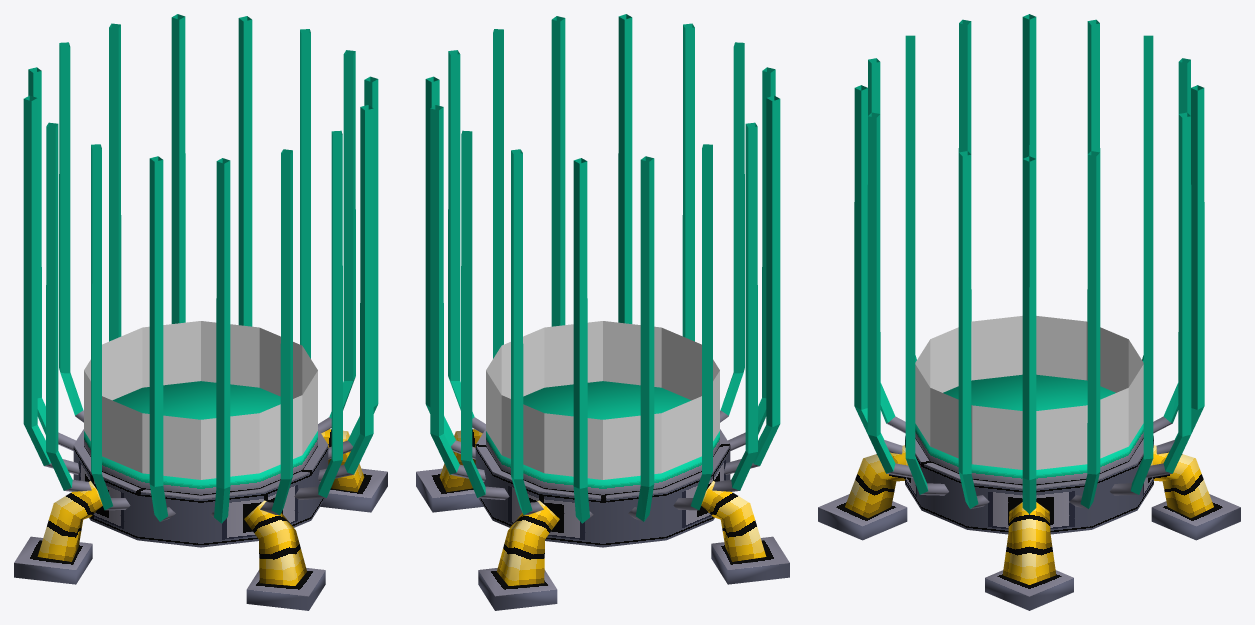
Rendered from st_sts_300_mdl.dae.
3 views of the same model, side by side, from view 1: azimuth 30°, elevation 25°; view 2: azimuth 150°, elevation 25°; view 3: azimuth 270°, elevation 25° (orthographic). The views are drawn at different scales.
Visible parts, largest first — view 1: warp_1_0_node, warp_0_0_node, eff_2_0_node; view 2: warp_1_0_node, warp_0_0_node, eff_2_0_node; view 3: warp_1_0_node, warp_0_0_node, eff_2_0_node.
Boxes of the visible parts, bbox=[...] form: warp_1_0_node: bbox=[23, 14, 378, 523]; warp_0_0_node: bbox=[14, 381, 387, 610]; eff_2_0_node: bbox=[84, 321, 317, 479]; warp_1_0_node: bbox=[425, 14, 780, 523]; warp_0_0_node: bbox=[416, 381, 789, 610]; eff_2_0_node: bbox=[486, 321, 719, 479]; warp_1_0_node: bbox=[854, 14, 1204, 513]; warp_0_0_node: bbox=[818, 374, 1240, 610]; eff_2_0_node: bbox=[915, 316, 1143, 469].
Bounding box in the file's own units: 228 × 258 × 228.
3 materials, 3 textured.
